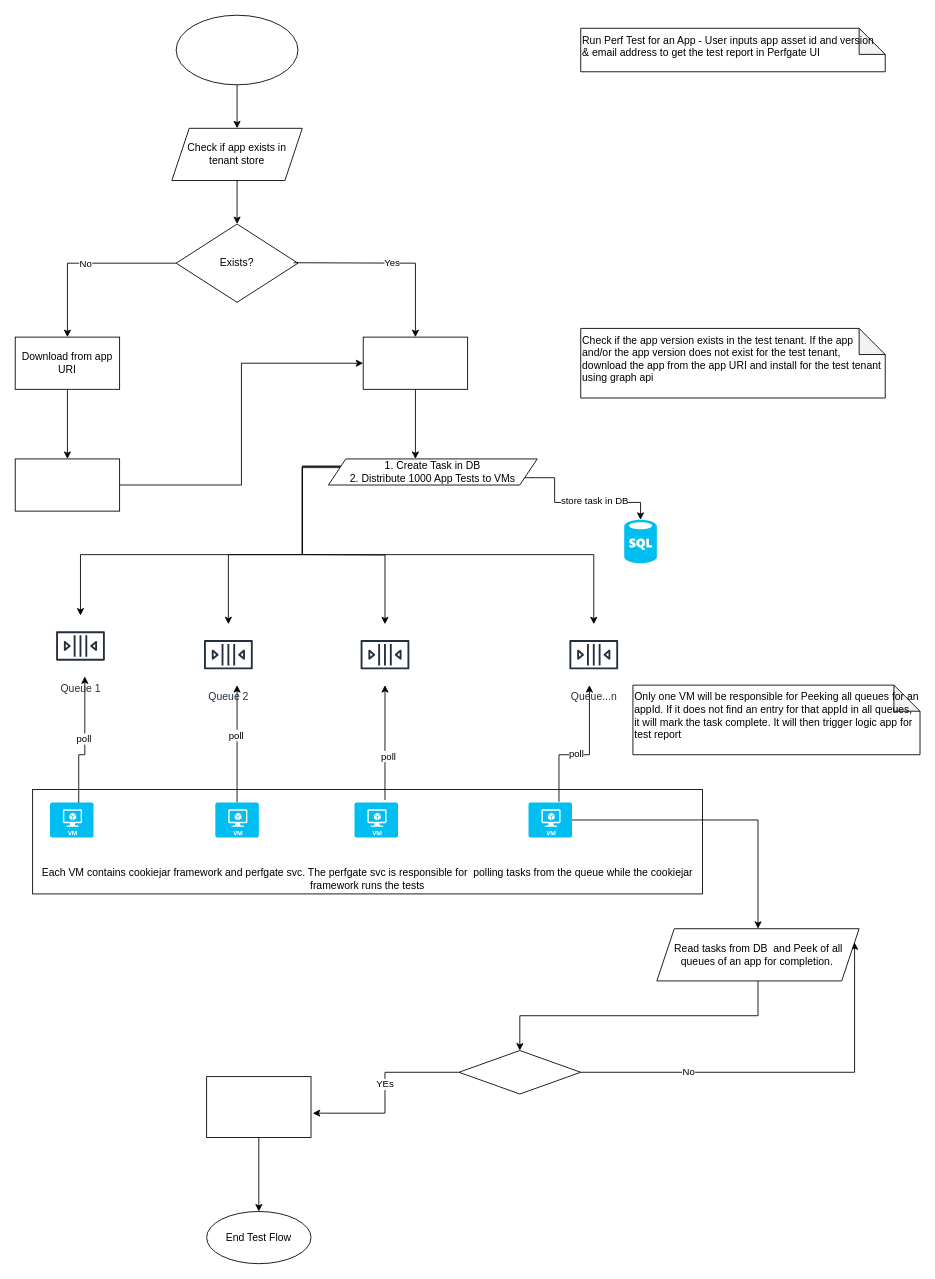
Some shapes in this 935 by 1279 pixel diagram are drawn without their labels. Here are the shapes that lost their labels. From the top down, the box of each, then its label:
(175, 14, 298, 85): Run perf test for an app
(362, 336, 468, 389): Run perf tests 1000 times
(14, 458, 120, 511): Install app for test tenant
(354, 623, 415, 685): Queue 3
(458, 1050, 581, 1094): Task Complete?
(206, 1076, 311, 1138): Trigger Logic App for report Generation
